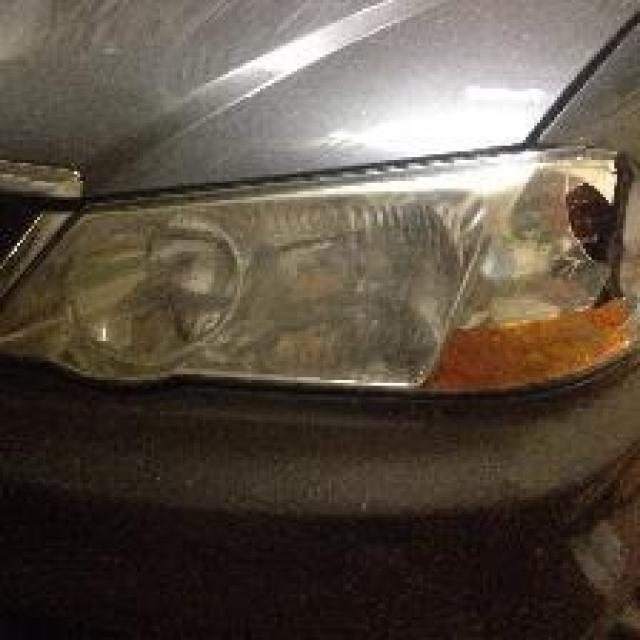damaged: (554, 174, 634, 329)
